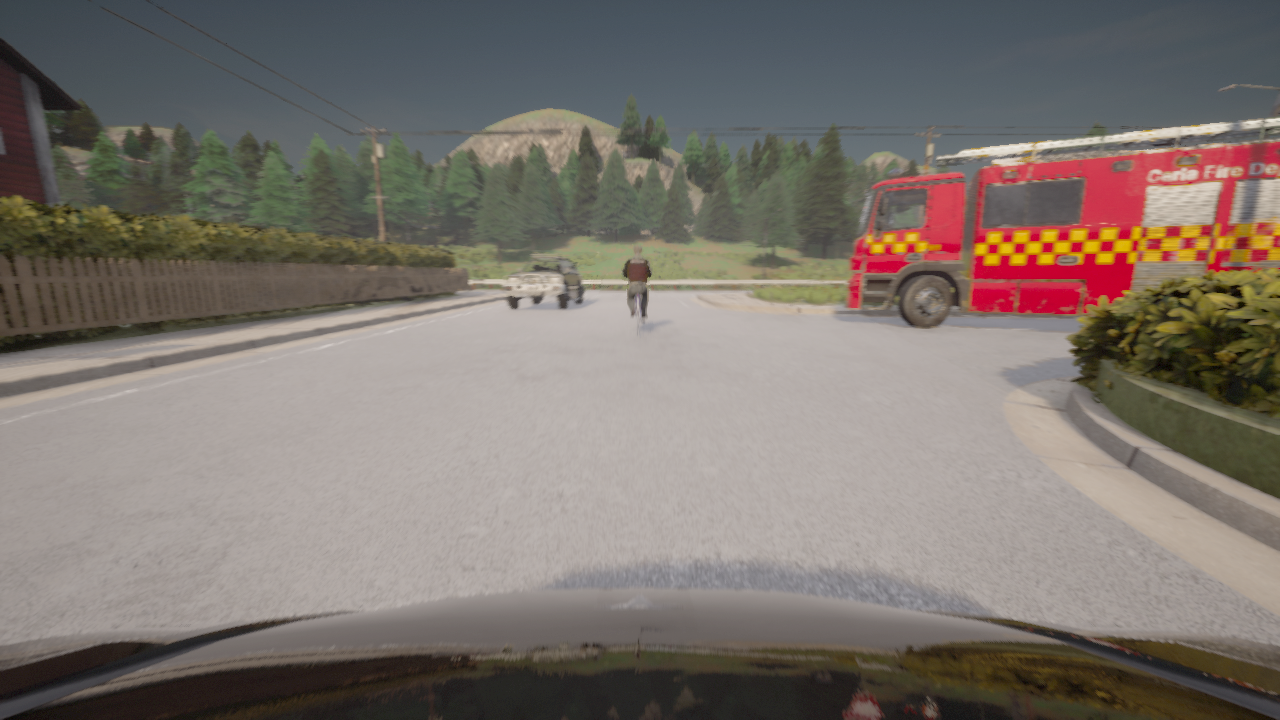cyclist: (0, 588, 1279, 719), (845, 117, 1279, 327), (503, 254, 583, 309), (635, 294, 645, 334), (464, 284, 471, 291)
